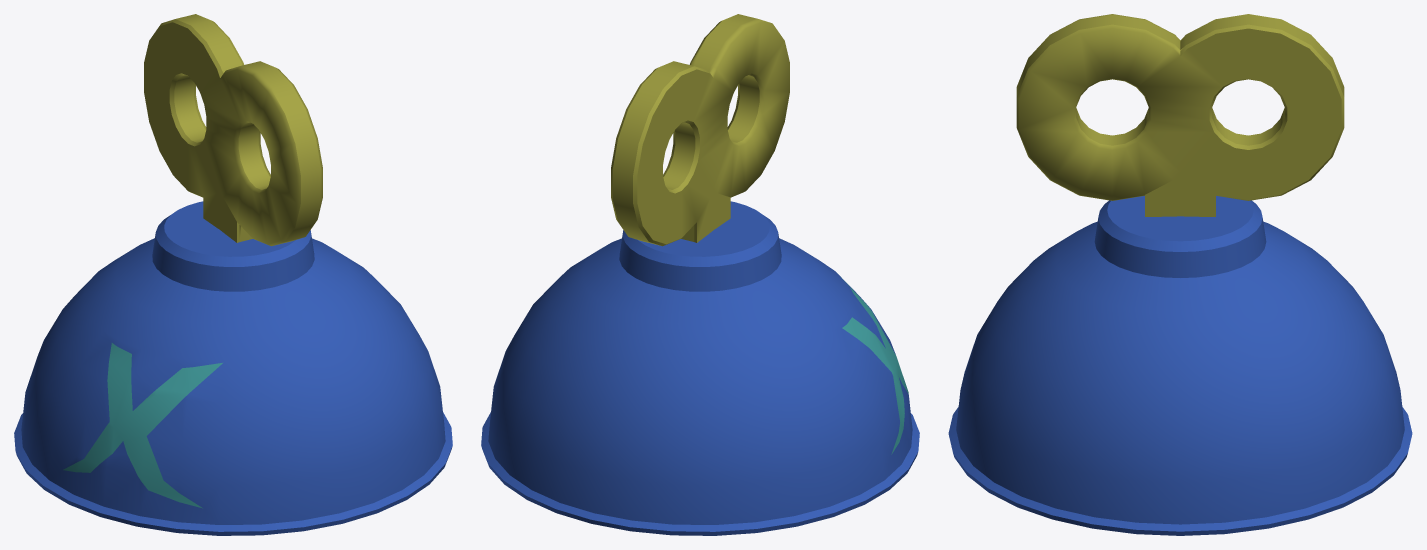
Rendered from 爆炸特效5小炸弹.FBX.
The picture shows the model from 3 angles, left to right: view 1: azimuth 30°, elevation 25°; view 2: azimuth 150°, elevation 25°; view 3: azimuth 270°, elevation 25°; orthographic projection. The views are drawn at different scales.
Visible parts, largest first — view 1: Sphere001, Cylinder005, 对象001; view 2: Sphere001, Cylinder005, 对象001; view 3: Sphere001, Cylinder005.
Part boxes in pixels (x1=…): Sphere001: x1=14, y1=201, x2=452, y2=535; Cylinder005: x1=144, y1=14, x2=322, y2=246; 对象001: x1=63, y1=343, x2=222, y2=508; Sphere001: x1=481, y1=201, x2=919, y2=535; Cylinder005: x1=611, y1=14, x2=789, y2=246; 对象001: x1=837, y1=273, x2=908, y2=454; Sphere001: x1=948, y1=196, x2=1412, y2=535; Cylinder005: x1=1016, y1=14, x2=1344, y2=216.
Bounding box in the file's own units: 93.39 × 93.1 × 93.39.
